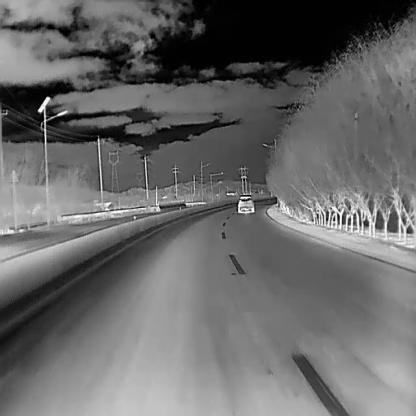car: (237, 193, 254, 212)
